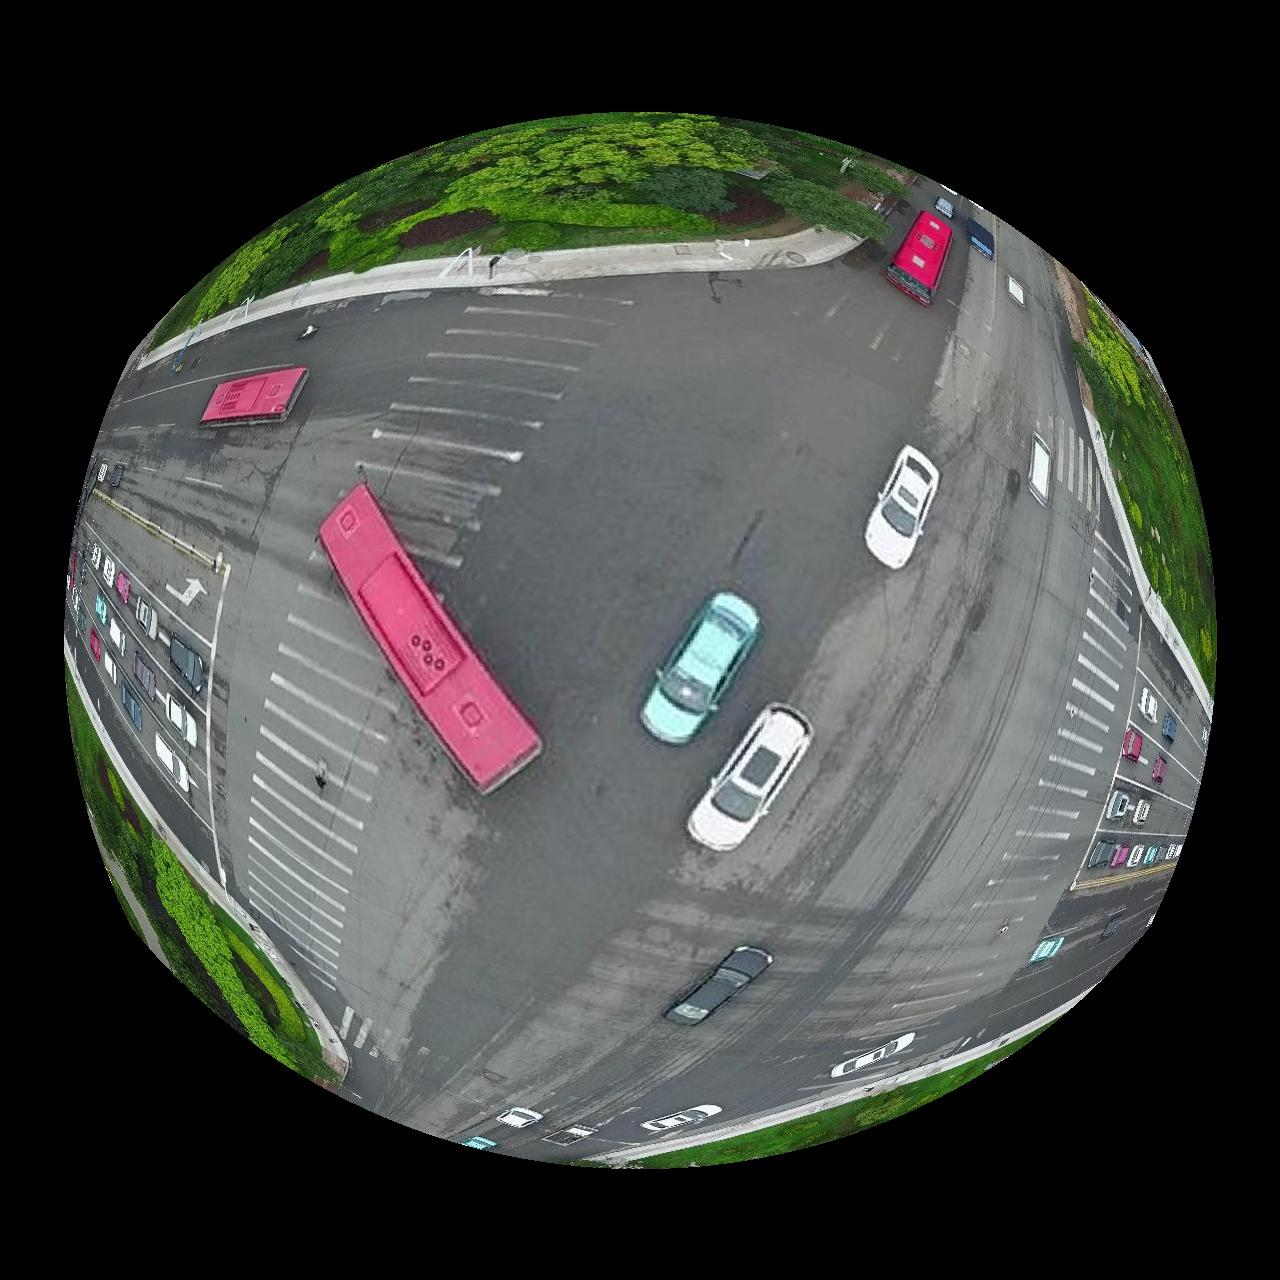cars: (319, 483, 540, 794), (688, 704, 812, 852), (642, 593, 761, 744), (866, 444, 941, 568), (667, 949, 774, 1027), (199, 366, 307, 424), (888, 210, 954, 304), (832, 1035, 915, 1080), (642, 1107, 722, 1135), (168, 636, 204, 693), (156, 735, 189, 794), (162, 695, 197, 748), (1032, 434, 1054, 503), (968, 217, 995, 258), (131, 652, 154, 701), (120, 682, 141, 730), (134, 598, 156, 640), (1089, 843, 1118, 870), (1124, 728, 1146, 763), (1141, 688, 1160, 723), (1109, 791, 1132, 821), (108, 619, 124, 655), (1164, 712, 1182, 743), (1135, 799, 1153, 824), (1155, 756, 1171, 784), (115, 572, 129, 604), (1112, 846, 1132, 869), (87, 628, 100, 661), (101, 554, 114, 586), (102, 653, 115, 683), (94, 593, 105, 625), (1129, 846, 1145, 869), (89, 544, 100, 570)
trees: (151, 113, 911, 345), (70, 683, 340, 1087), (1073, 280, 1218, 689)
